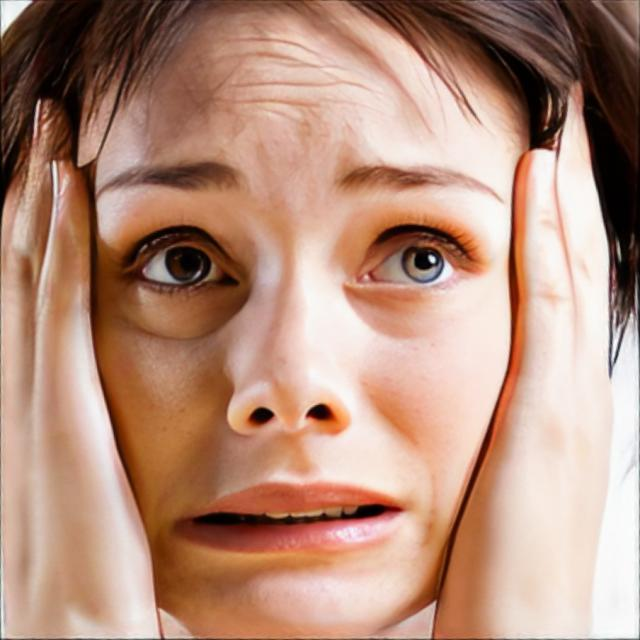Fear: (75, 4, 528, 640)
